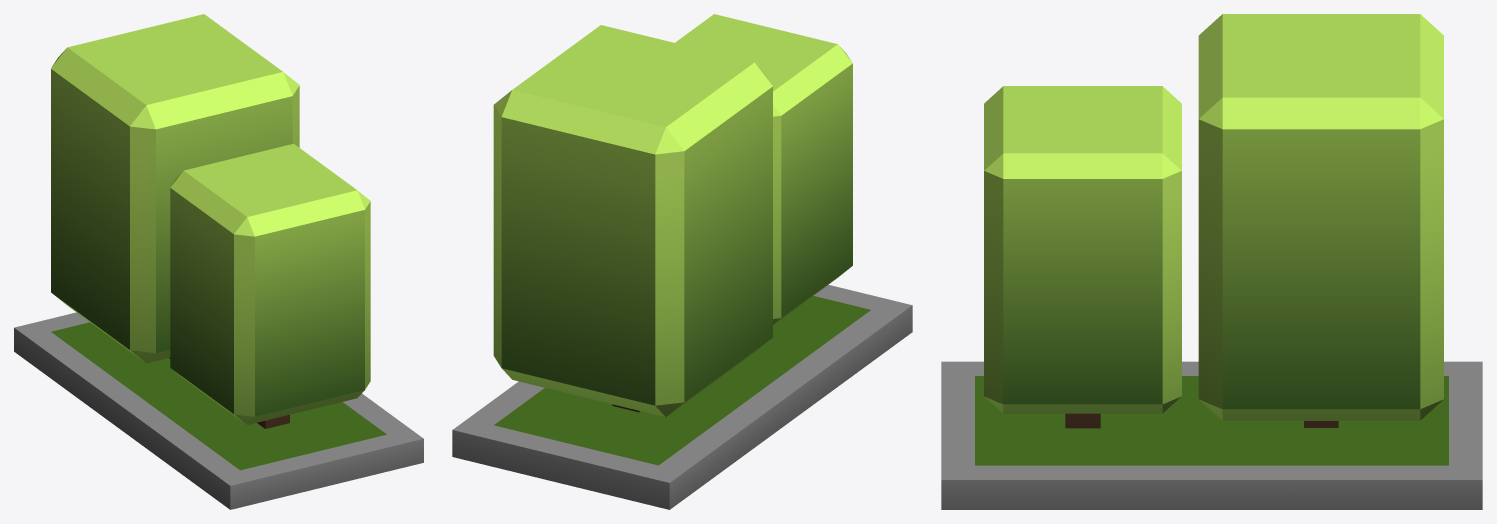
The model's file is tree 4.fbx.
3 views of the same model, side by side, from view 1: azimuth 30°, elevation 25°; view 2: azimuth 150°, elevation 25°; view 3: azimuth 270°, elevation 25° (orthographic). The views are drawn at different scales.
Parts seen in each view (by area): view 1: tree_4; view 2: tree_4; view 3: tree_4.
Part boxes in pixels (<box>): tree_4: <box>14,14,423,509</box>; tree_4: <box>452,14,912,509</box>; tree_4: <box>941,14,1482,509</box>.
Size of the model in its own units: 169 by 263 by 327.
1 material, 1 textured.
